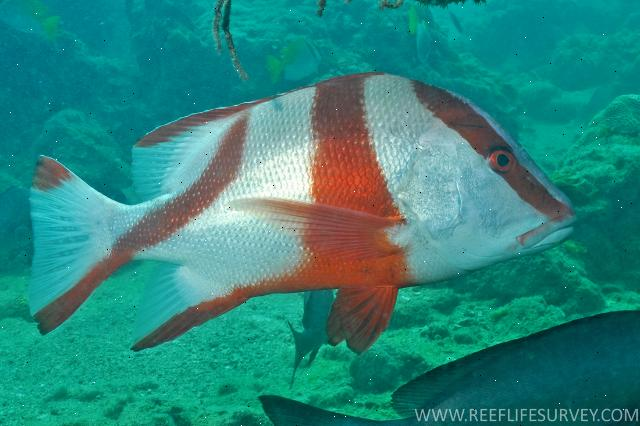Mulut: (456, 190, 608, 268)
Sirip Anal: (121, 248, 259, 364)
Sirip Dada: (212, 177, 412, 271)
Sirip Ekor: (15, 142, 134, 342)
Sirip Perut: (310, 268, 414, 370)
Sirip Punggung: (115, 56, 398, 214)
